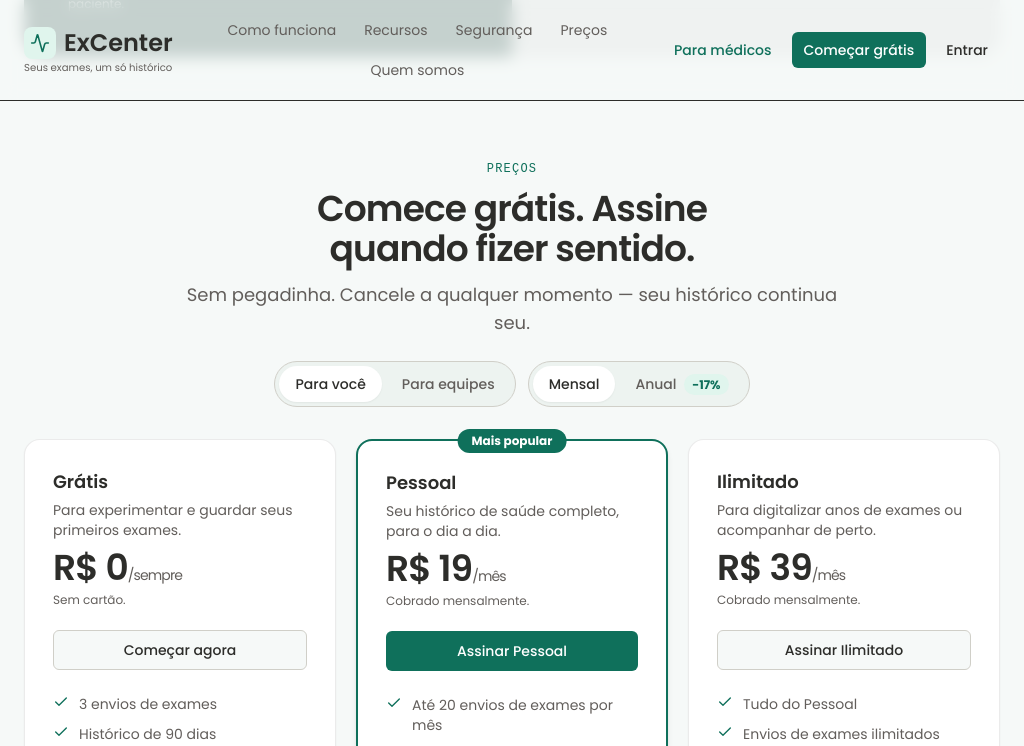
Test: Landing — planos para equipes › preços de equipe respeitam o toggle Mensal/Anual
(page scrolled)
Click the button "Para equipes". click: (448, 384)
box: [386, 366, 511, 402]
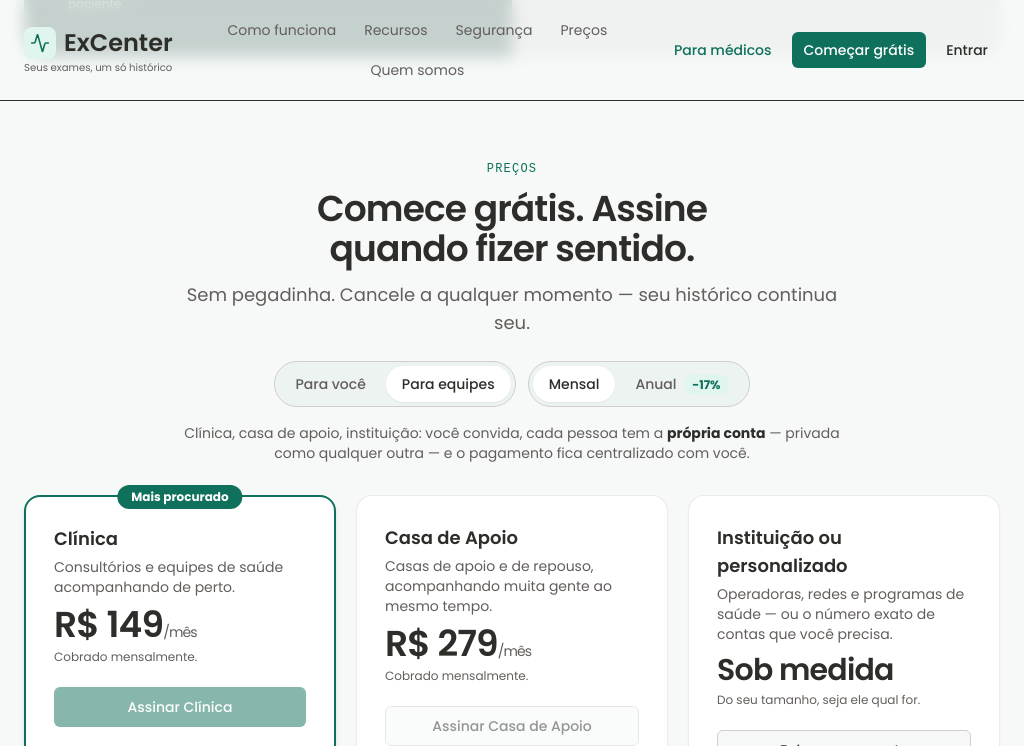
Expected: the text "R$ 149/mês" is shown, [54, 599, 197, 650]
Expected: the text "R$ 279/mês" is shown, [385, 618, 531, 669]
Click the button "Anual -17%". click: (682, 384)
box: [619, 366, 744, 402]
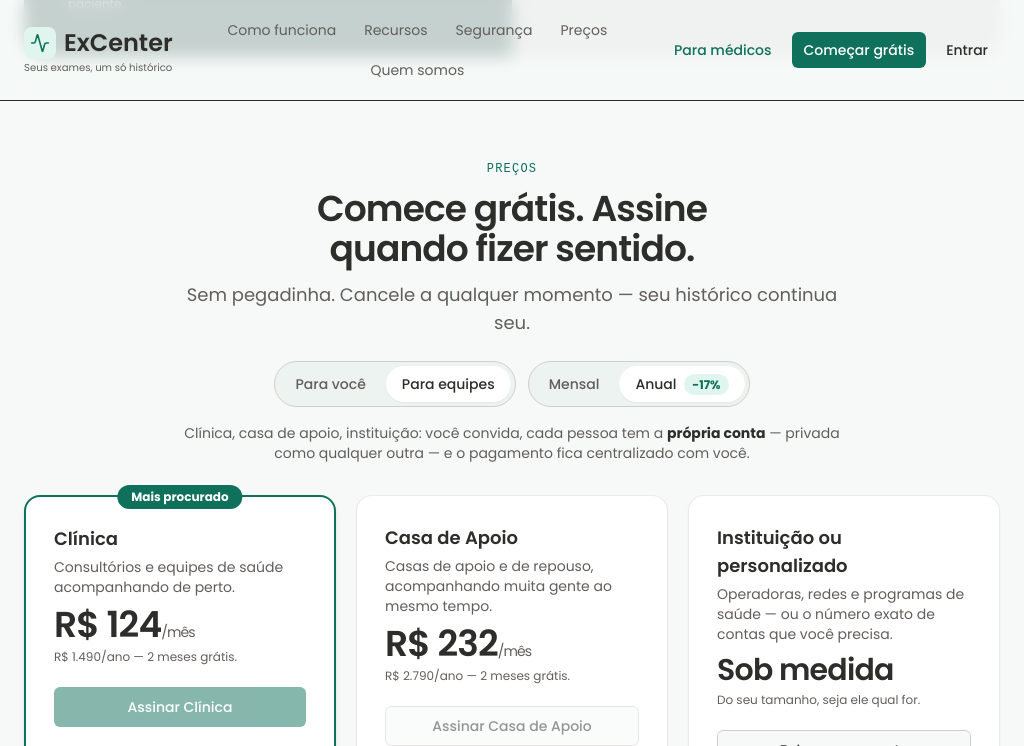
Expected: the text "R$ 124/mês" is shown, [54, 599, 195, 650]
Expected: the text "R$ 232/mês" is shown, [385, 618, 531, 669]
